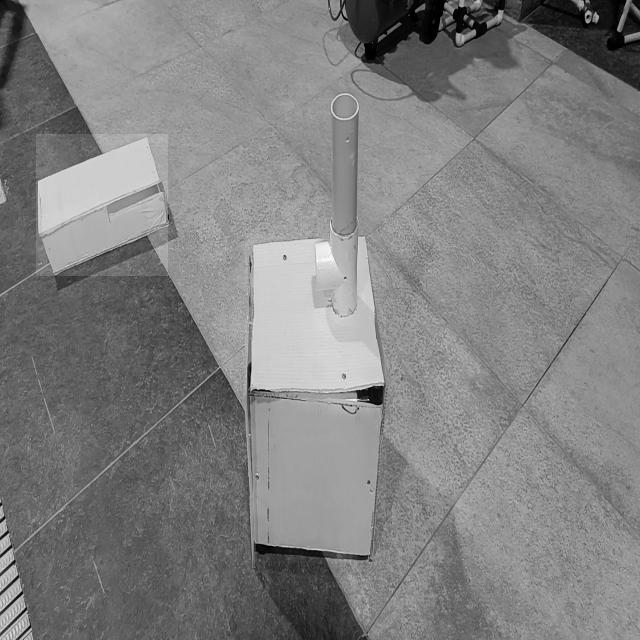Cube: (245, 234, 386, 564)
Cuboid: (249, 236, 385, 396), (36, 134, 168, 276)
